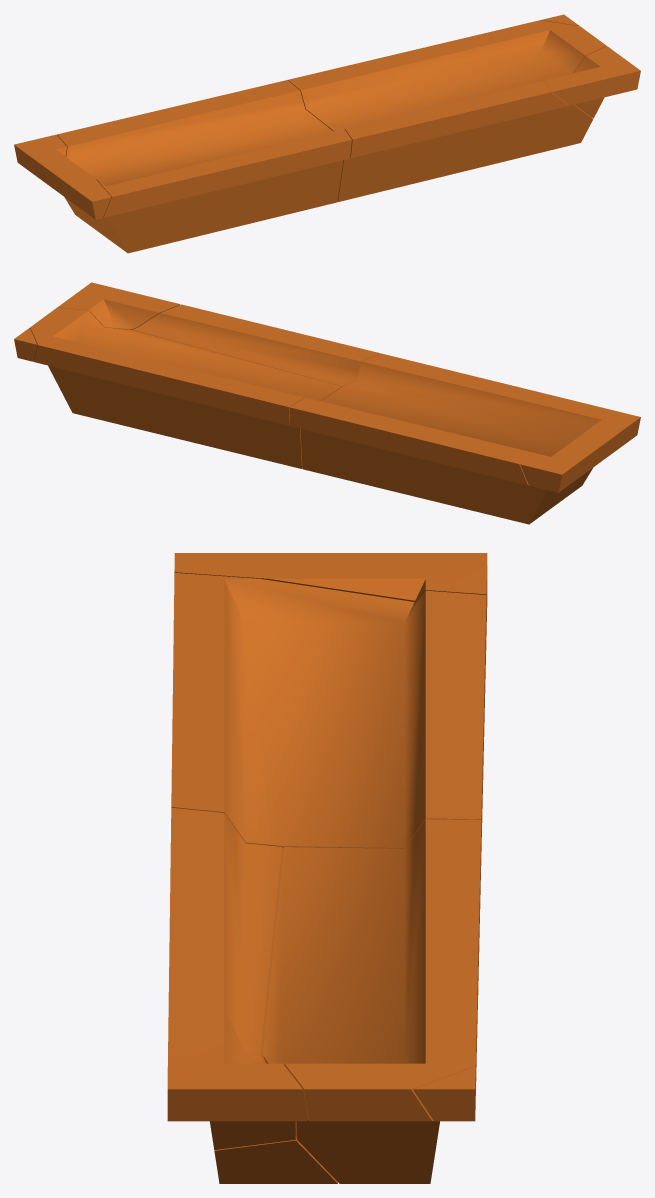
File: Gutter_DEST.fbx
The picture shows the model from 3 angles, top to bottom: view 1: azimuth 30°, elevation 25°; view 2: azimuth 150°, elevation 25°; view 3: azimuth 270°, elevation 25°; orthographic projection. The views are drawn at different scales.
Visible parts, largest first — view 1: polySurface114_cell.002, polySurface114_cell, polySurface114_cell.005, polySurface114_cell.003, polySurface114_cell.001; view 2: polySurface114_cell.002, polySurface114_cell, polySurface114_cell.005, polySurface114_cell.003, polySurface114_cell.001, polySurface114_cell.004; view 3: polySurface114_cell.002, polySurface114_cell, polySurface114_cell.005, polySurface114_cell.001, polySurface114_cell.003, polySurface114_cell.004.
Part boxes in pixels (x1,y1,x2,y2): polySurface114_cell.002: (57,80,351,253); polySurface114_cell: (287,20,606,131); polySurface114_cell.005: (337,80,592,201); polySurface114_cell.003: (14,134,111,219); polySurface114_cell.001: (545,46,640,118); polySurface114_cell.002: (289,353,620,524); polySurface114_cell: (30,307,341,468); polySurface114_cell.005: (132,304,379,386); polySurface114_cell.003: (520,412,640,492); polySurface114_cell.001: (57,282,180,329); polySurface114_cell.004: (14,328,37,361); polySurface114_cell.002: (171,572,486,851); polySurface114_cell: (262,819,481,1183); polySurface114_cell.005: (168,807,337,1183); polySurface114_cell.001: (167,1002,307,1149); polySurface114_cell.003: (174,553,487,621); polySurface114_cell.004: (413,1066,475,1121).
Bounding box in the file's own units: 170 × 21.15 × 42.98.
